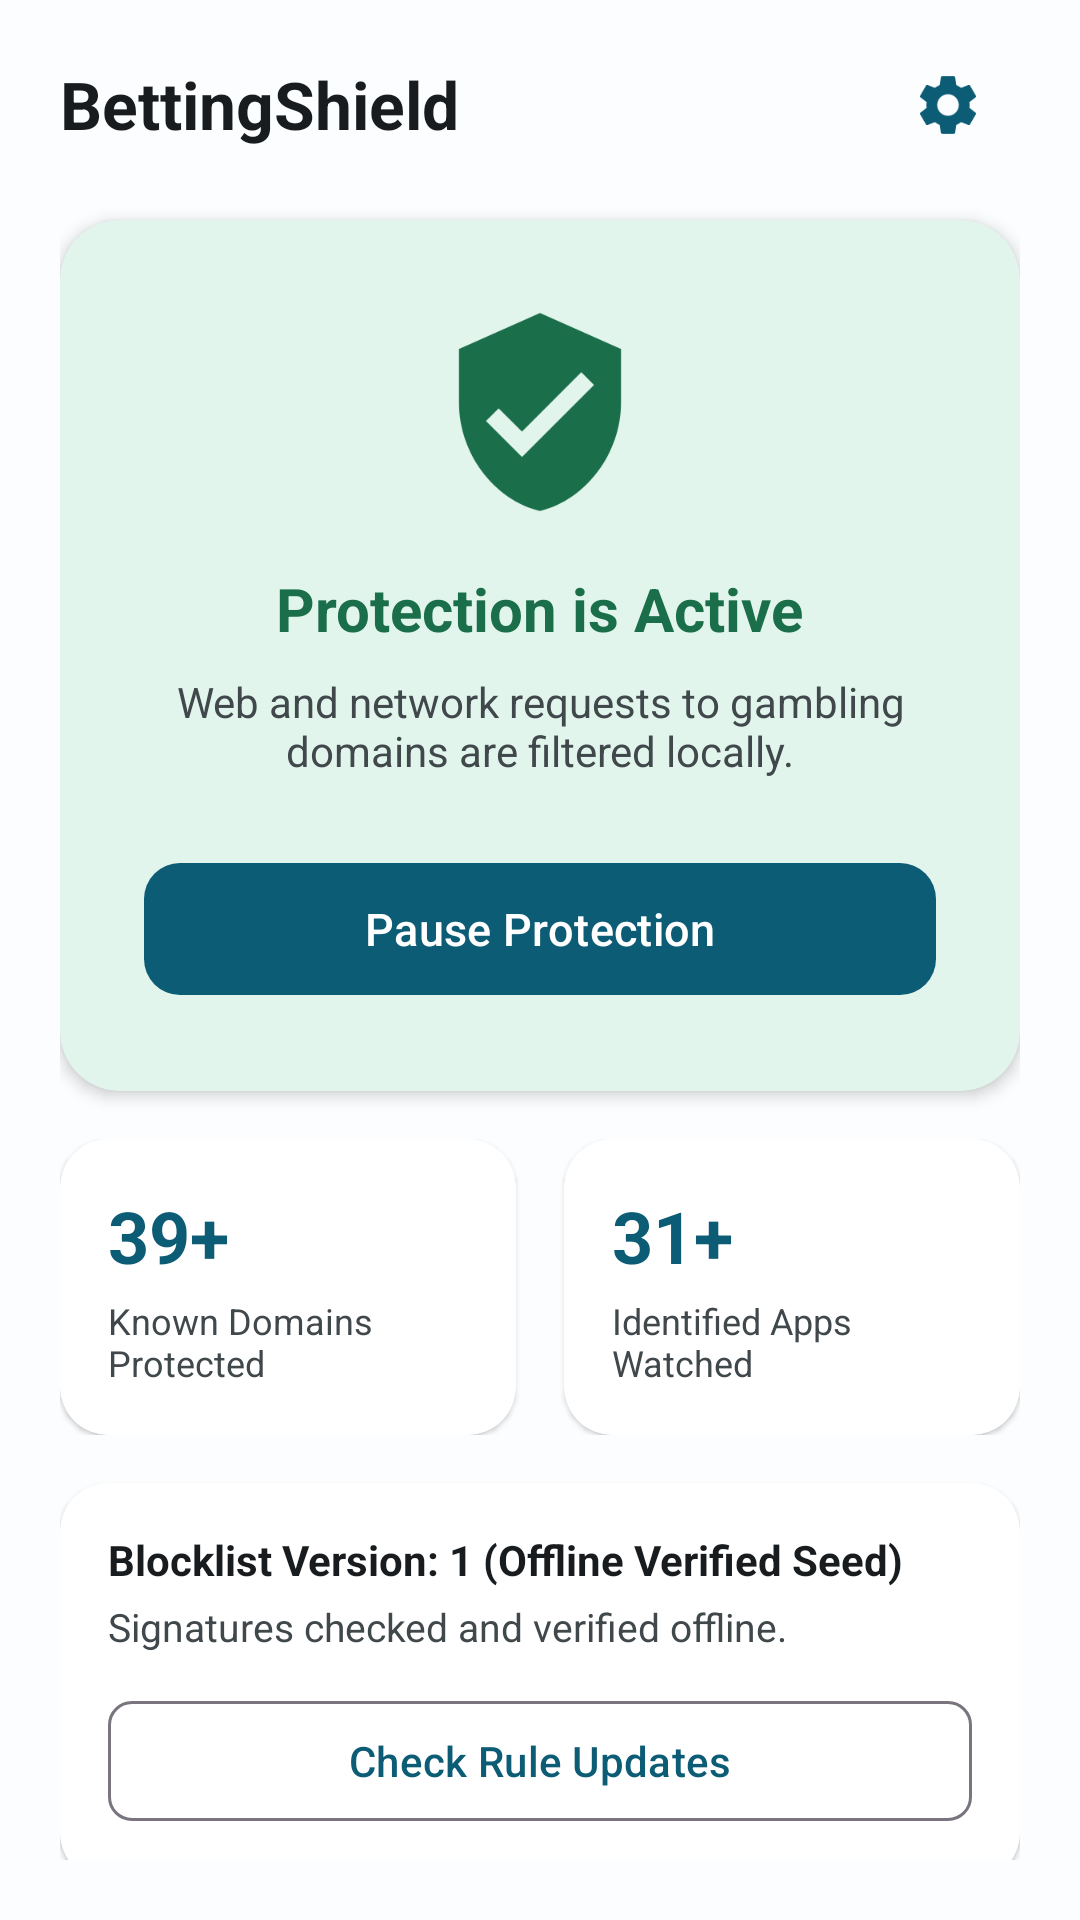

Screen size 1080*1920. Icon name, then its center in pixels as [x,y]:
Settings & Exceptions: [948,105]
shield check: [540,412]
